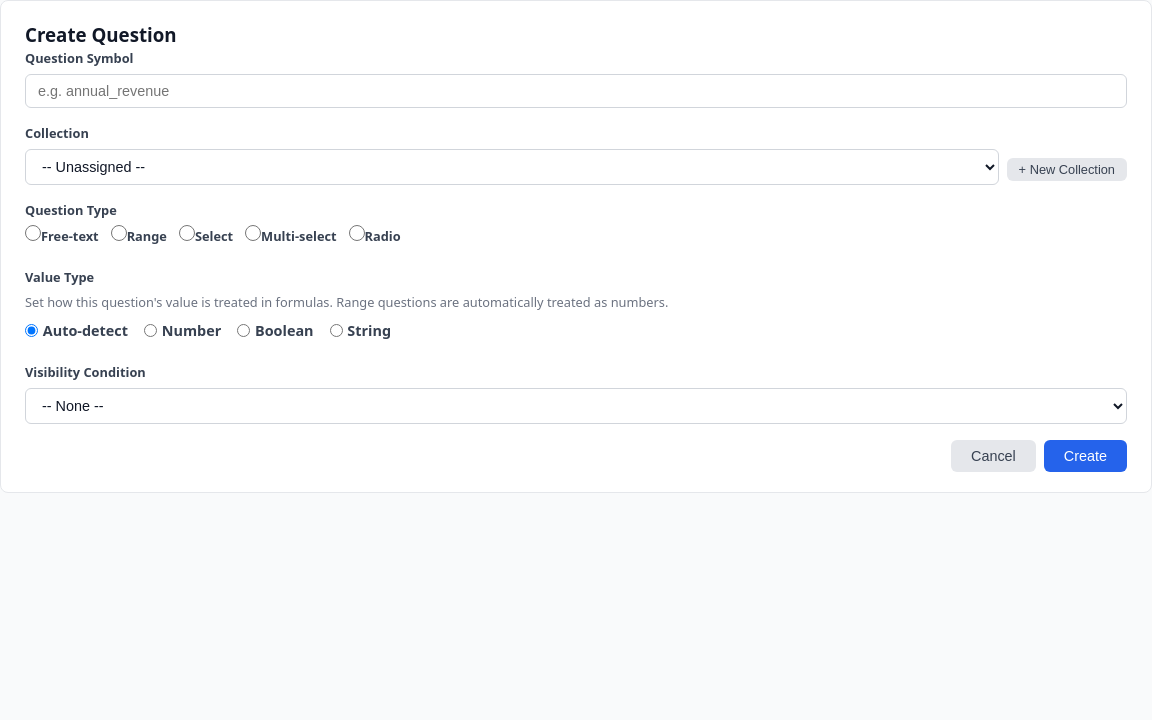
Scenario: QuestionForm › given a short symbol › when submitted, then shows symbol length validation error
Type "a" into the field labelled "Question Symbol" at (576, 91), box x1=25 y1=74 x2=1127 y2=108
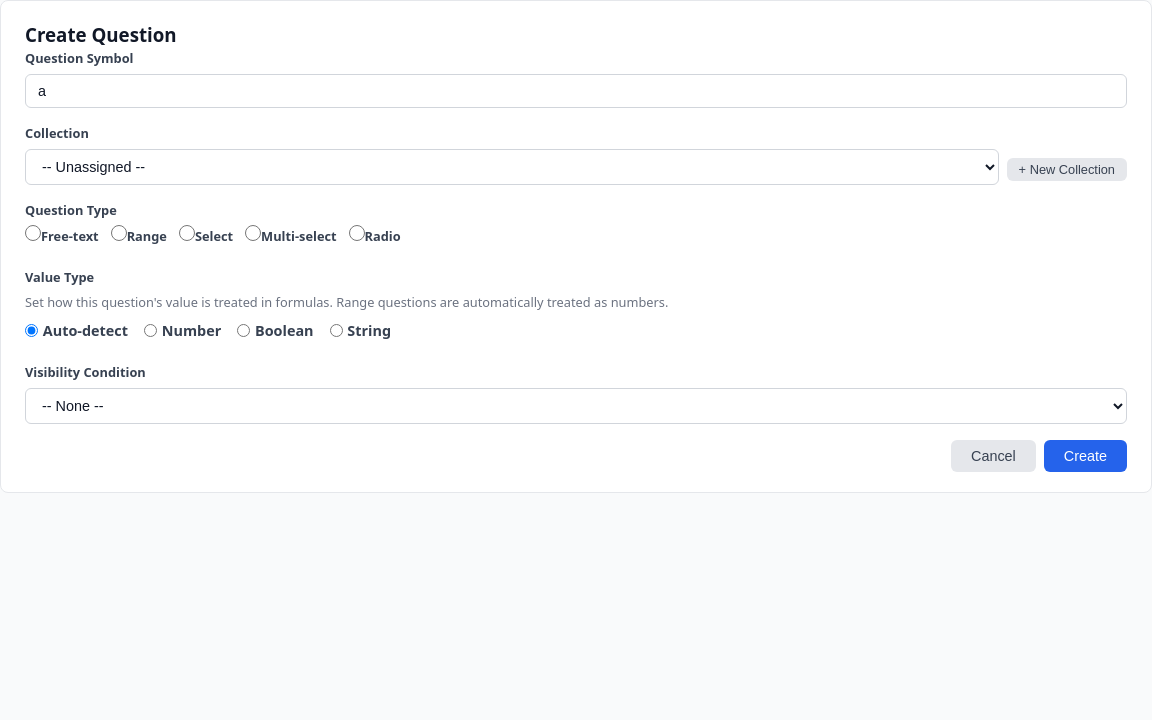
Click the button "Create" at (1085, 456), box x1=1044 y1=440 x2=1127 y2=472
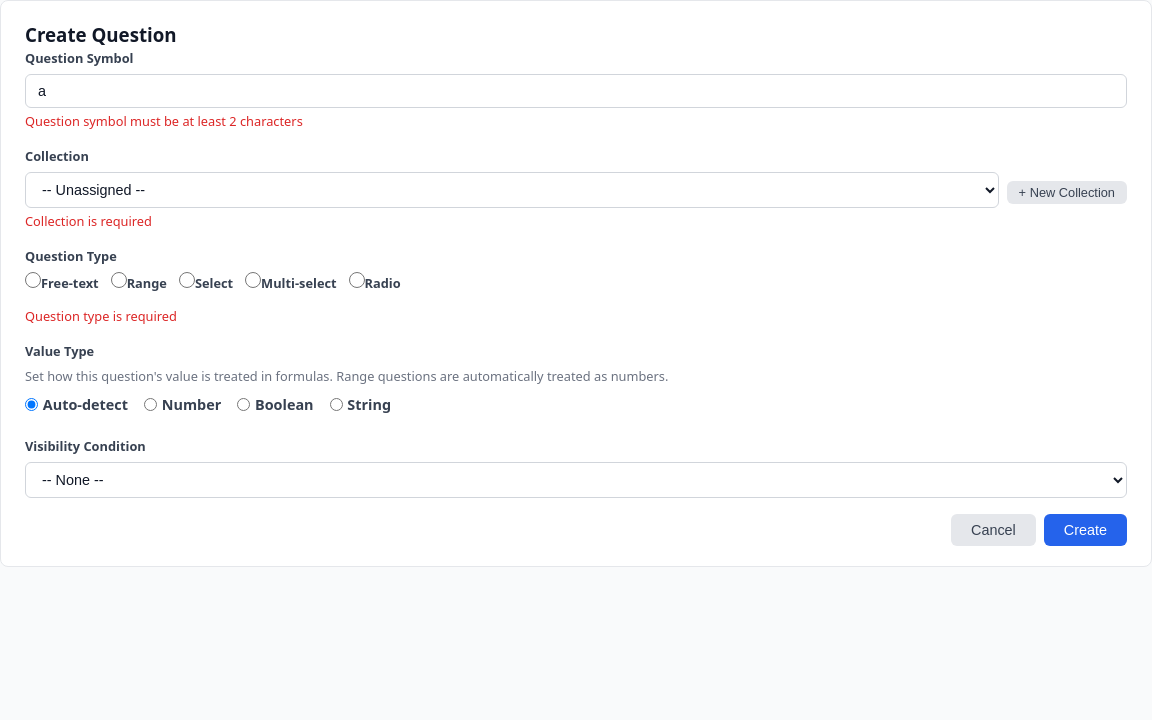
Check: the text "Question symbol must be at least 2 characters" is shown, box x1=25 y1=112 x2=303 y2=130
